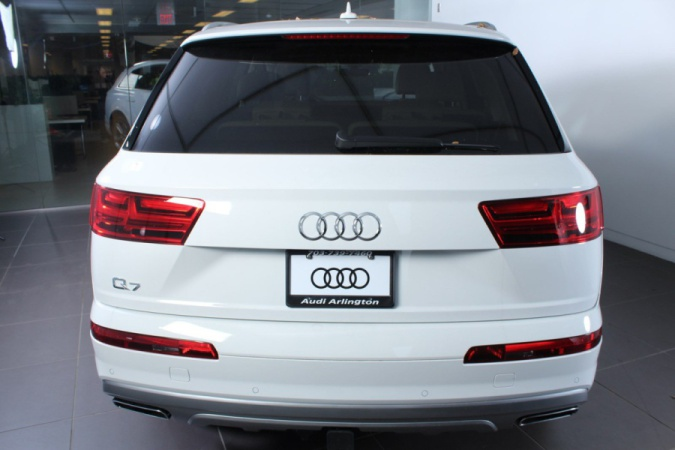audi: (285, 202, 402, 246)
